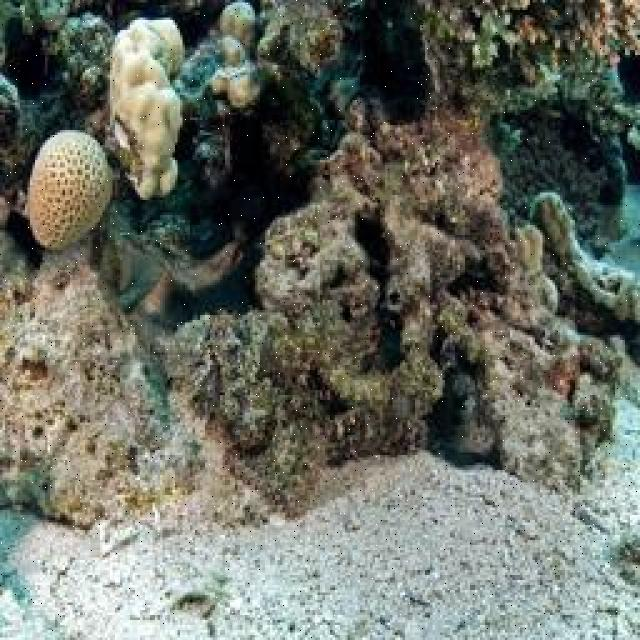reefs: (100, 17, 184, 198), (25, 129, 114, 250)
sea-floor: (205, 98, 625, 516)
